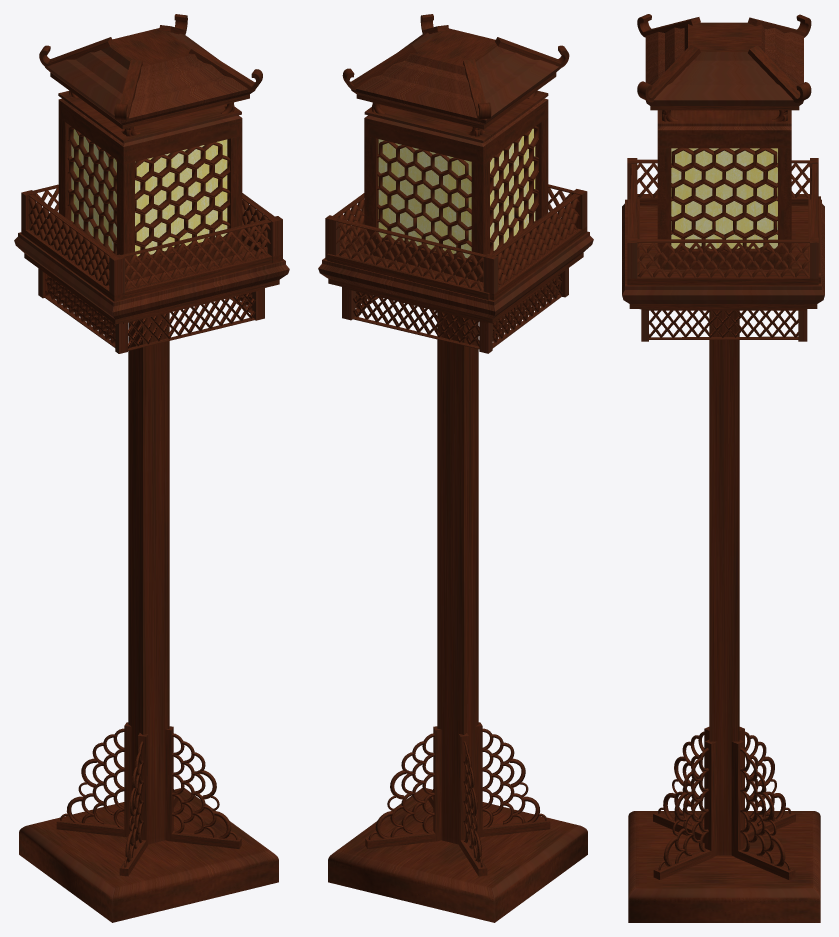
File: 高腳燈.fbx
The picture shows the model from 3 angles, left to right: view 1: azimuth 30°, elevation 25°; view 2: azimuth 150°, elevation 25°; view 3: azimuth 270°, elevation 25°; orthographic projection. The views are drawn at different scales.
Parts seen in each view (by area): view 1: Box014, Box013; view 2: Box014, Box013; view 3: Box014, Box013.
Boxes of the visible parts, x1=… form: Box014: x1=14, y1=14, x2=289, y2=922; Box013: x1=71, y1=129, x2=227, y2=256; Box014: x1=318, y1=14, x2=593, y2=922; Box013: x1=378, y1=128, x2=535, y2=258; Box014: x1=622, y1=14, x2=824, y2=922; Box013: x1=671, y1=148, x2=777, y2=248.
Size of the model in its own units: 26.33 by 117 by 25.34.
Materials: 2 (2 with a texture image).
